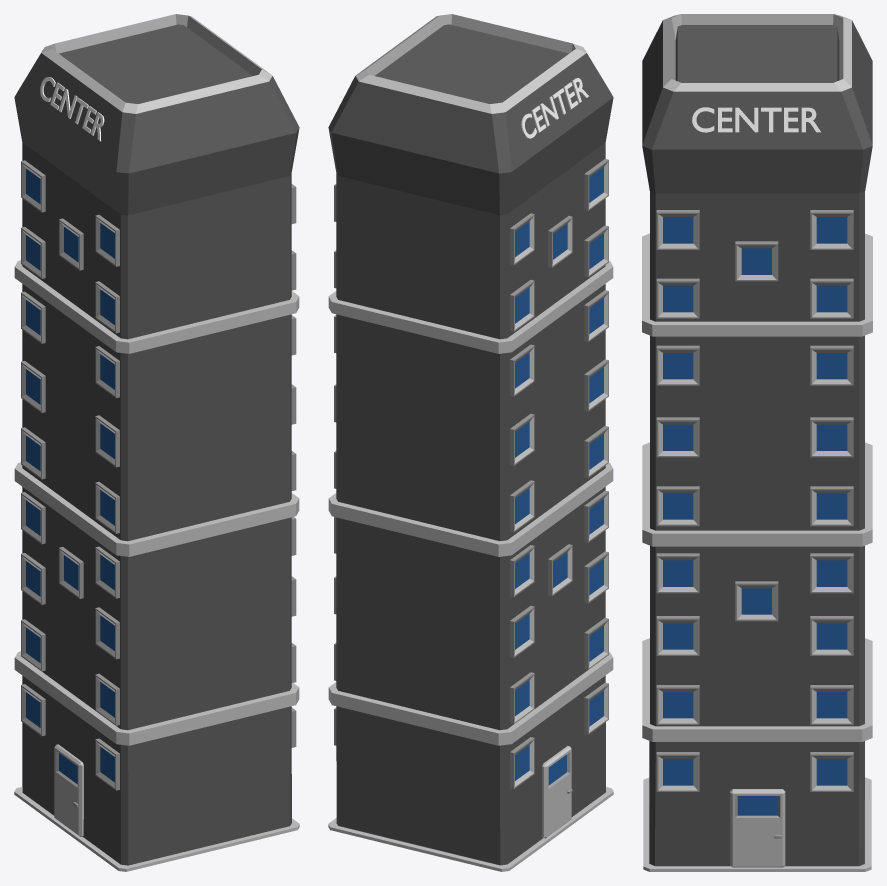
File: center_building.glb
3 renders of one model, left to right at view 1: azimuth 30°, elevation 25°; view 2: azimuth 150°, elevation 25°; view 3: azimuth 270°, elevation 25°, orthographic. The views are drawn at different scales.
Visible parts, largest first — view 1: CENTER BUILDING_Material.022_0; view 2: CENTER BUILDING_Material.022_0; view 3: CENTER BUILDING_Material.022_0.
Boxes of the visible parts, box(x1,y1,x2,y2) form: CENTER BUILDING_Material.022_0: box(14, 14, 299, 871); CENTER BUILDING_Material.022_0: box(328, 14, 613, 871); CENTER BUILDING_Material.022_0: box(642, 14, 872, 871).
Bounding box in the file's own units: 1.53 × 5.94 × 1.6.
Materials: 1 (1 with a texture image).
